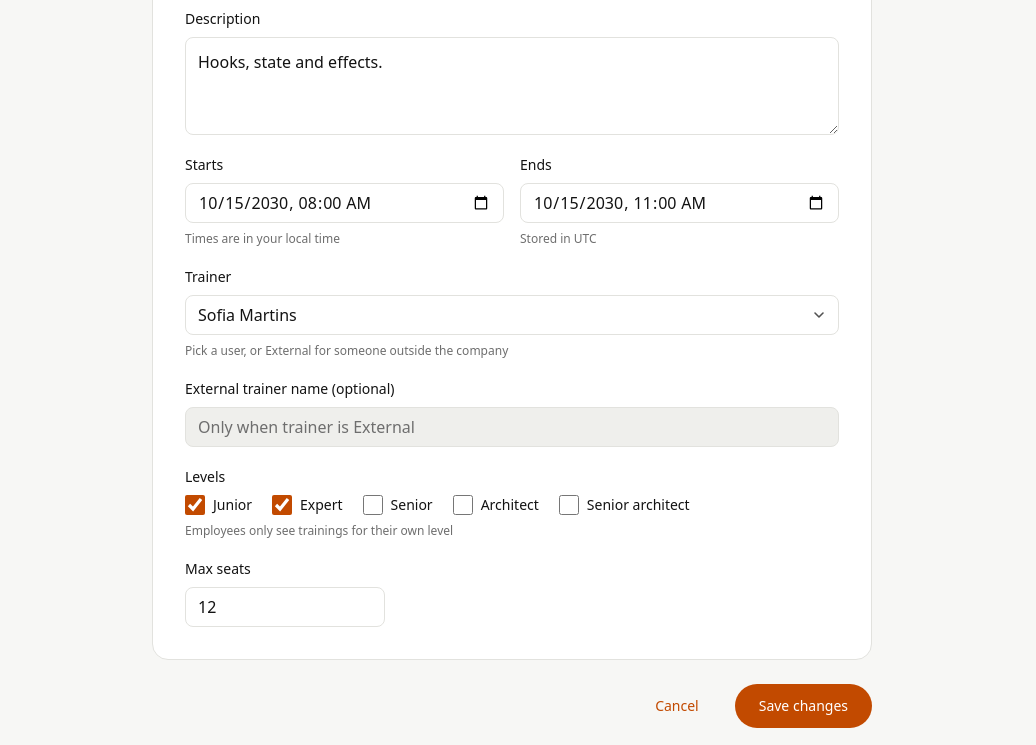
Test case: edit training › shows the API's message when the change conflicts
This screenshot has width=1036, height=745.
(page scrolled)
Replace the text in the number field labelled "Max seats" with "1" at (285, 607), box [185, 587, 385, 627]
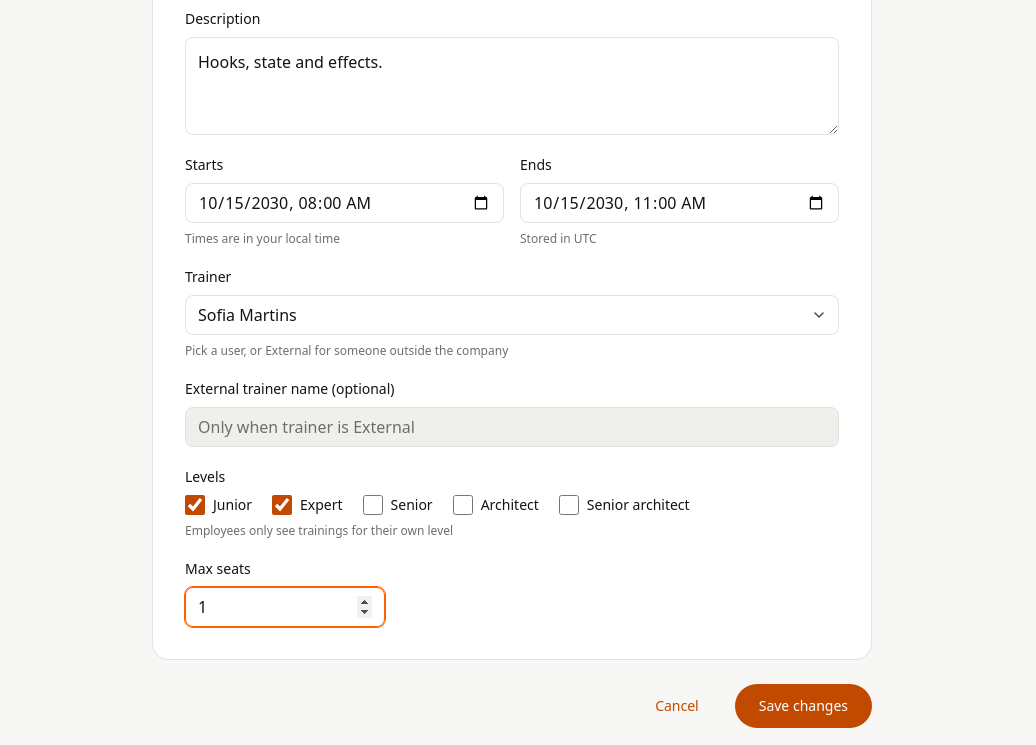
Click the button "Save changes" at (803, 706), box [735, 684, 872, 728]
(page scrolled)
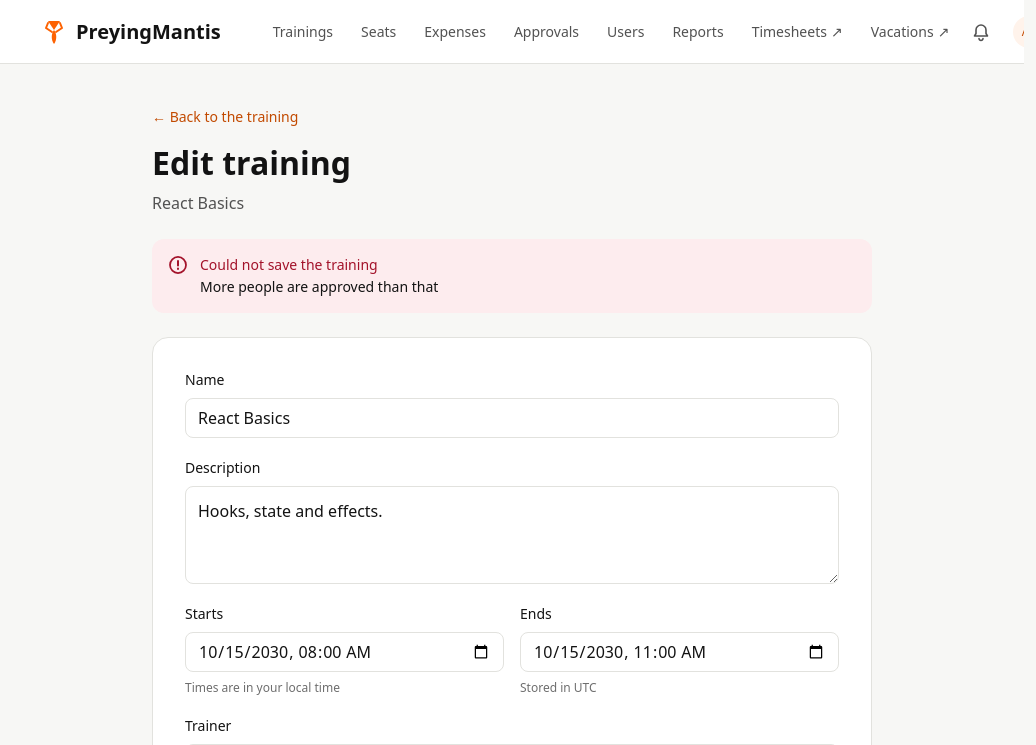
Check: the message shows "More people are approved than that", box [200, 277, 438, 296]
